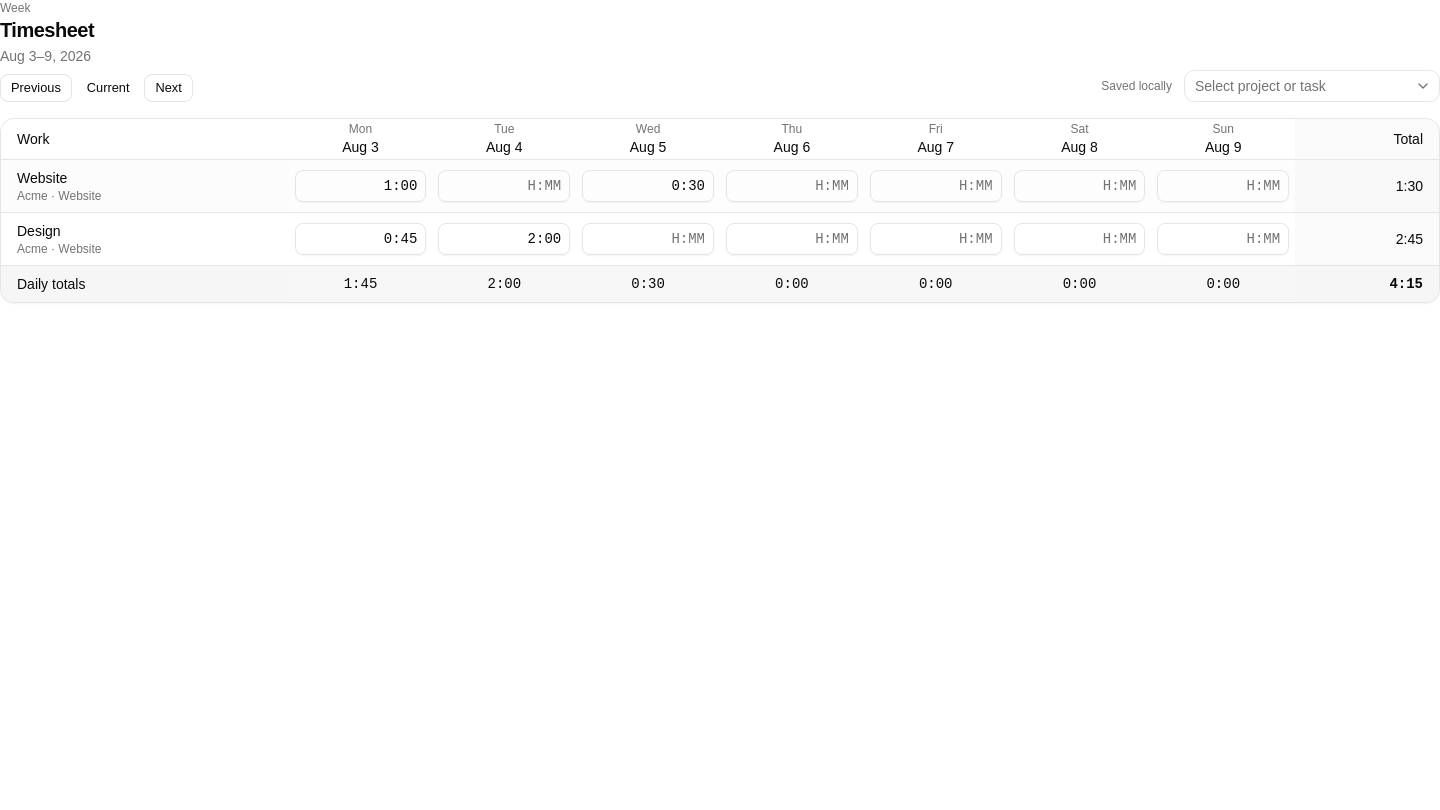
it: retains authoritative saved totals after failed deletion and retries
Clear the field named "Acme · Website · Mon Aug 3". click: {"x": 360, "y": 186}
box: [295,170,426,202]
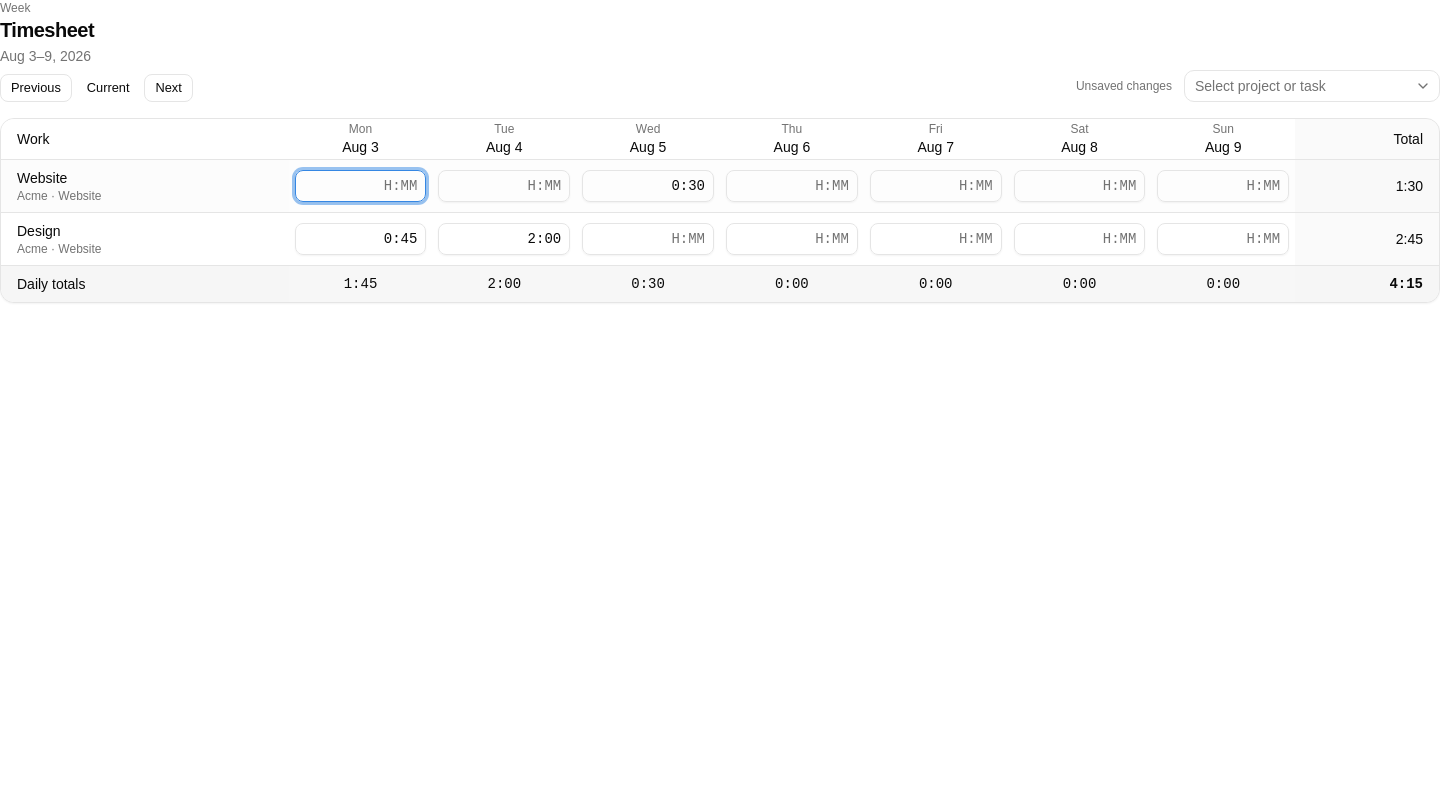
Press Enter
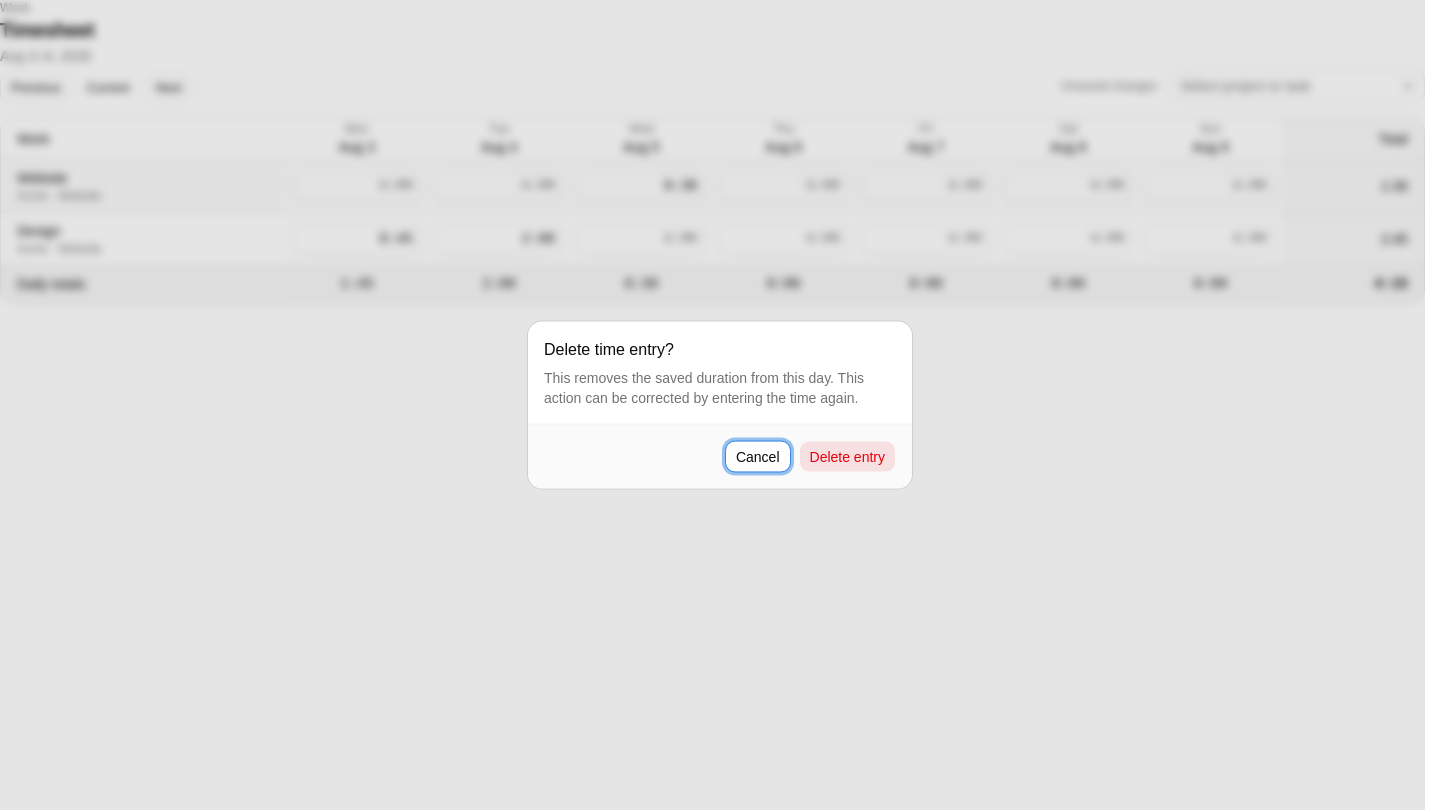
Click the button "Delete entry". click: {"x": 847, "y": 456}
box: [798,440,896,472]
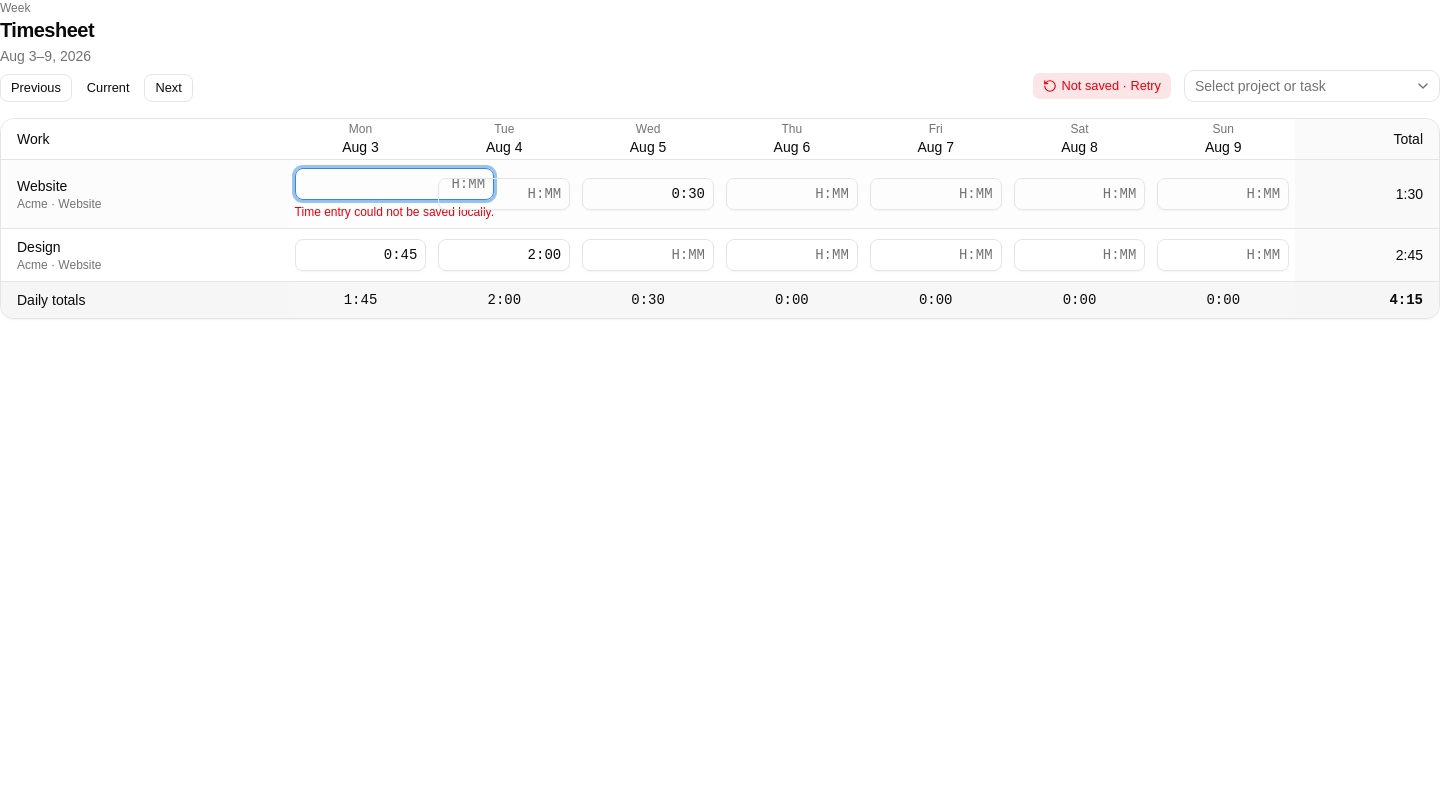
expect the row "Daily totals 1:45 2:00 0:30 0:00 0:00 0:00 0:00 4:15" is shown: met, box [1,281,1439,318]
expect the message "Time entry could not be saved locally." is shown: met, box [295,204,494,220]
expect the message "Not saved · Retry" is shown: met
Click the button "Not saved · Retry". click: {"x": 1102, "y": 86}
box: [1032,72,1172,100]
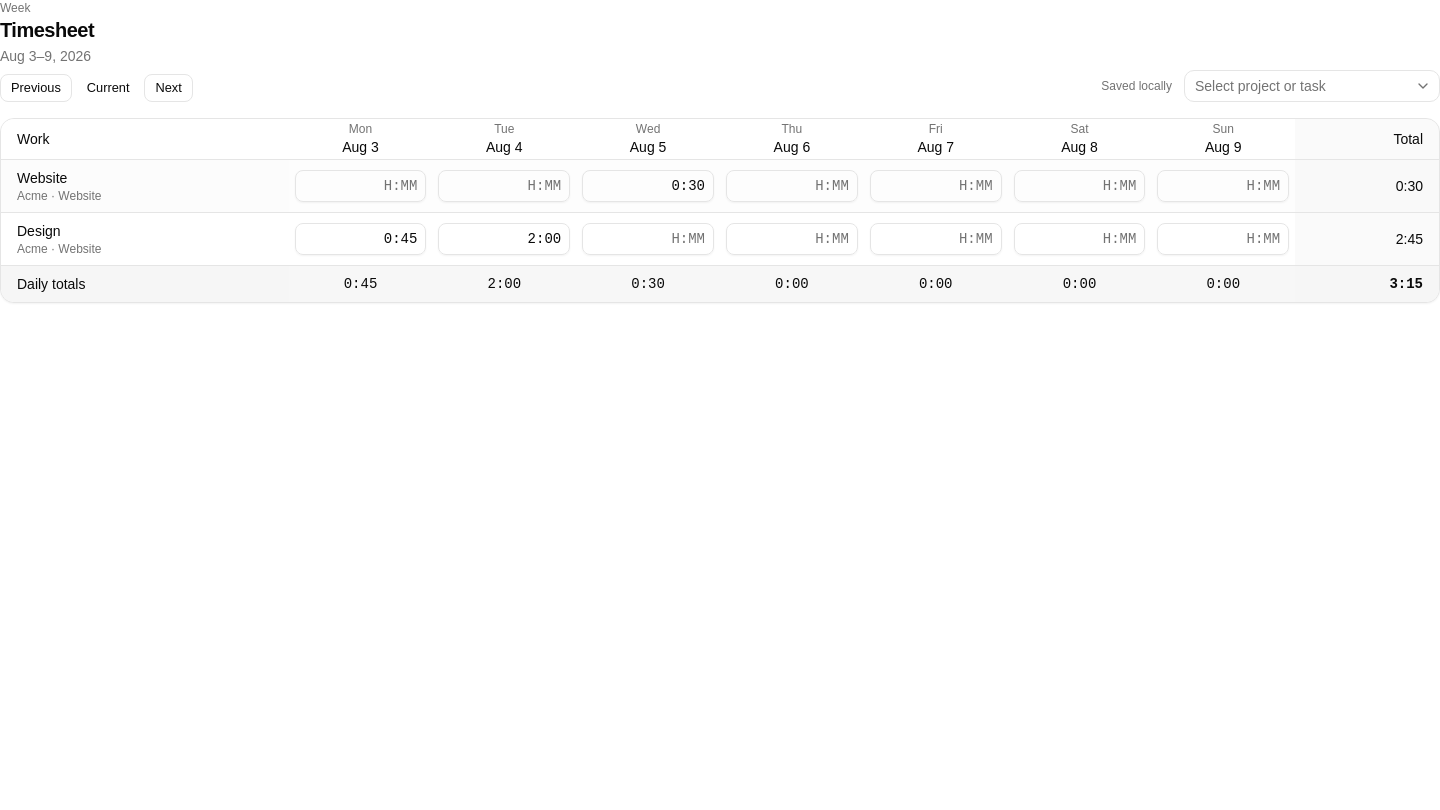
expect the message reads "Saved locally": met, box [1101,79,1172,93]
expect the row "Daily totals 0:45 2:00 0:30 0:00 0:00 0:00 0:00 3:15" is shown: met, box [1,265,1439,302]
